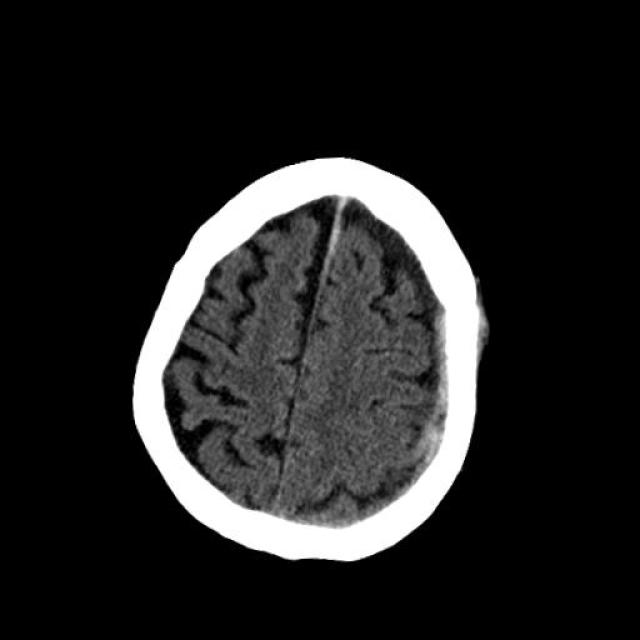Subdural: (385, 295, 483, 506)
